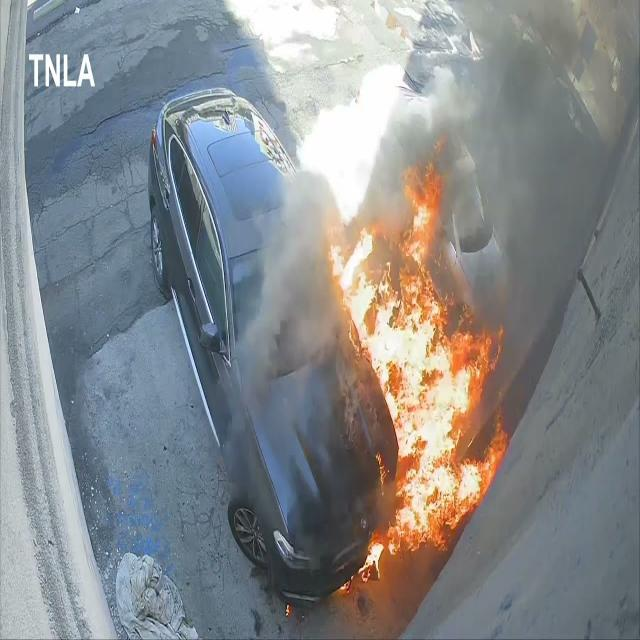Fire: (327, 223, 508, 589)
Smoke: (287, 2, 638, 218), (229, 223, 326, 424)
